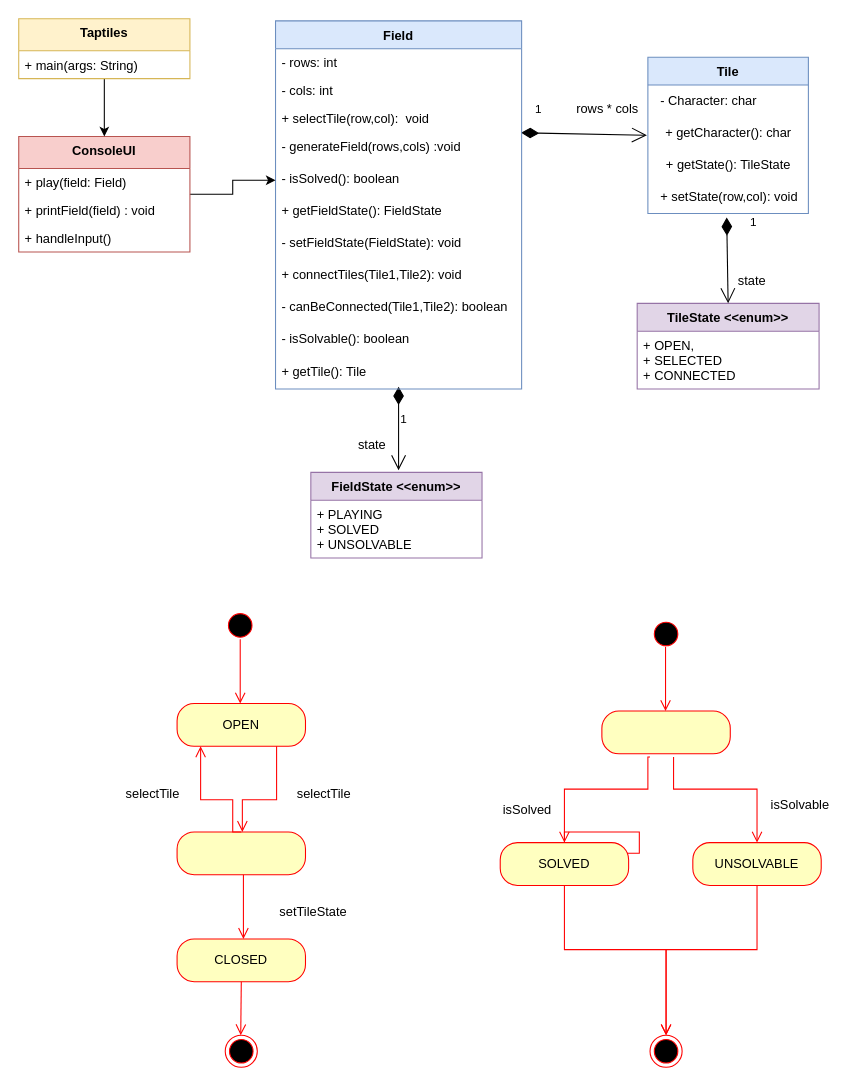
The diagram is 861 pixels wide and 1086 high, and some of its shapes have lost their labels. Here are the shapes that lost their labels. From the top down, the centre of each, then its label:
the point at 665,732: PLAYING
the point at 240,853: SELECTED
